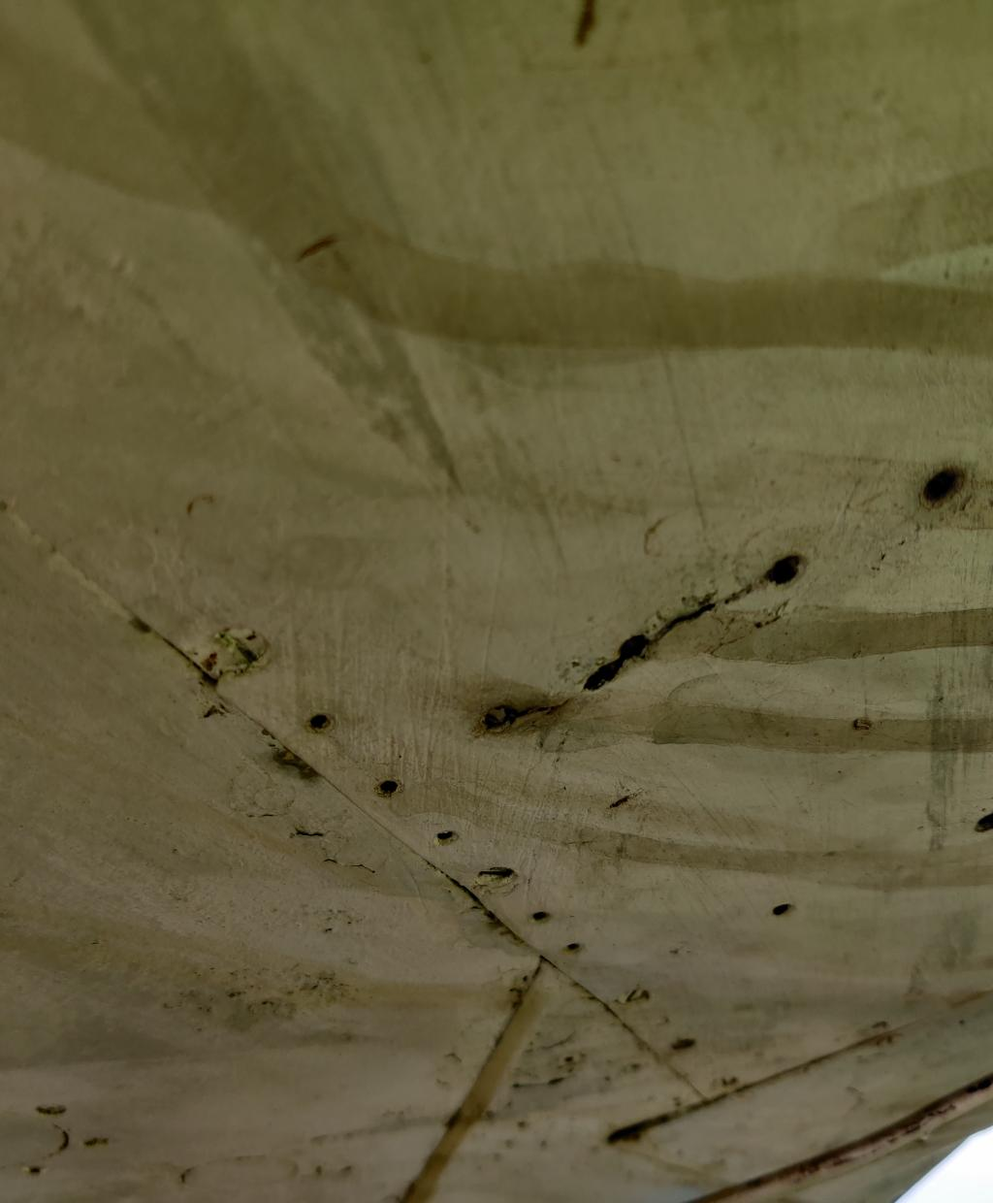crack: (443, 517, 831, 758)
